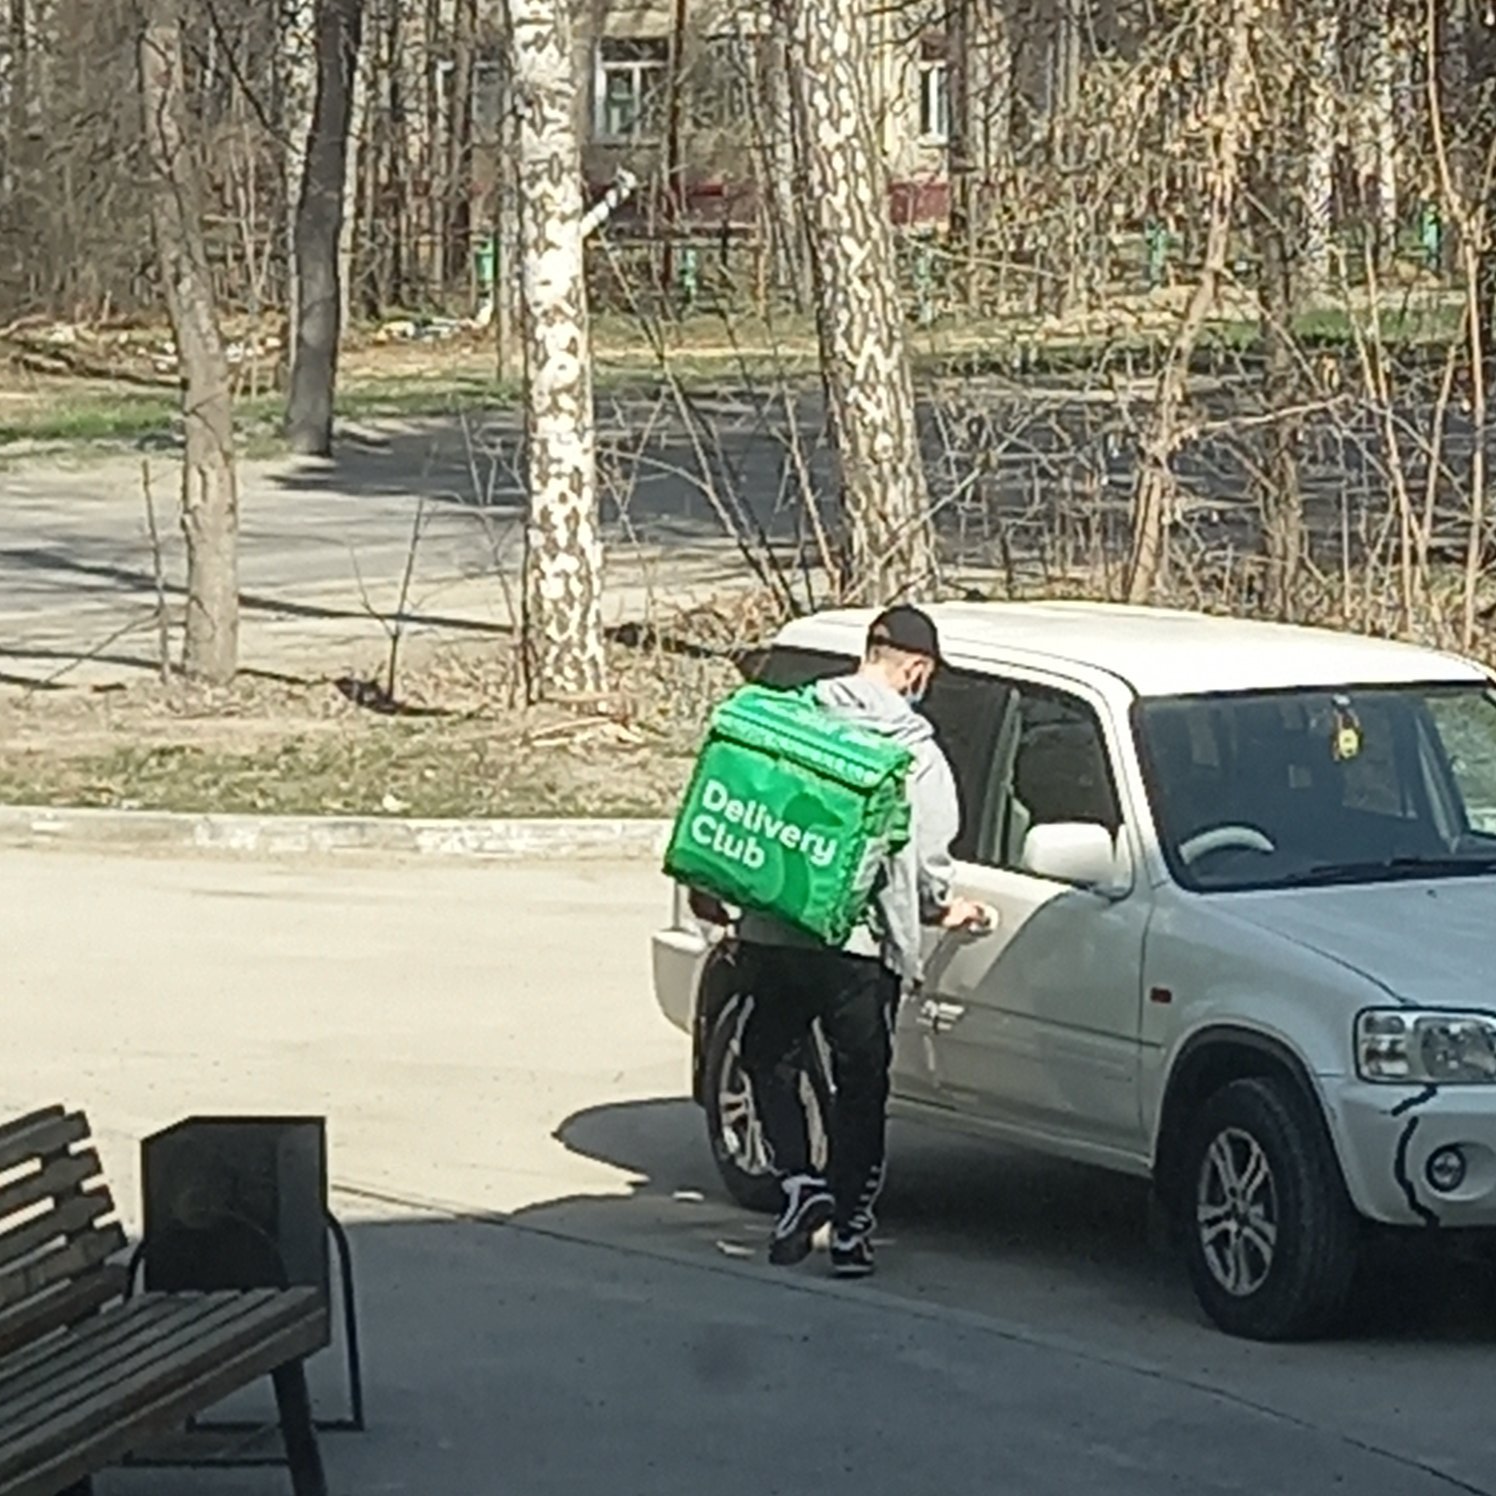person: (665, 600, 965, 1281)
